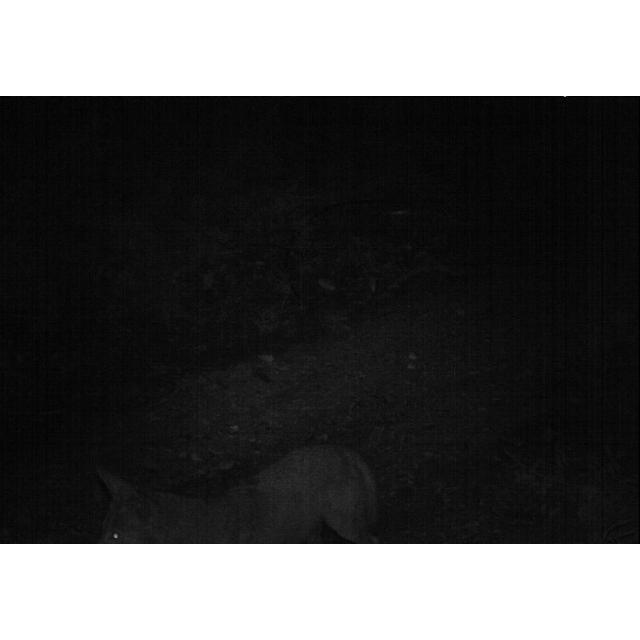animals: (87, 440, 387, 544)
